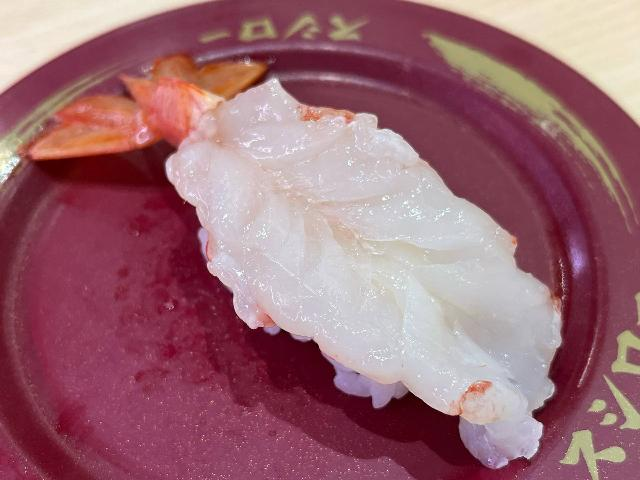janwhite: (11, 20, 633, 466)
